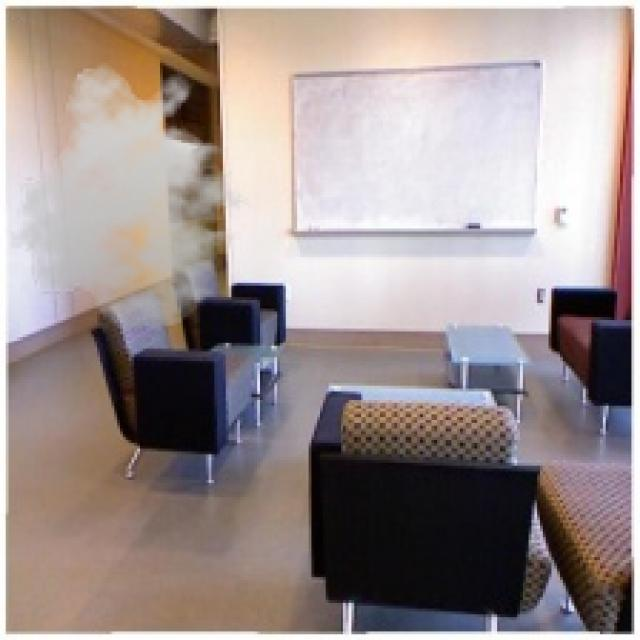smoke: (3, 63, 260, 331)
